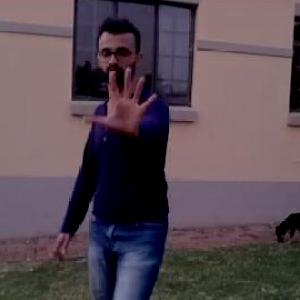follow_hand: (81, 63, 160, 139)
